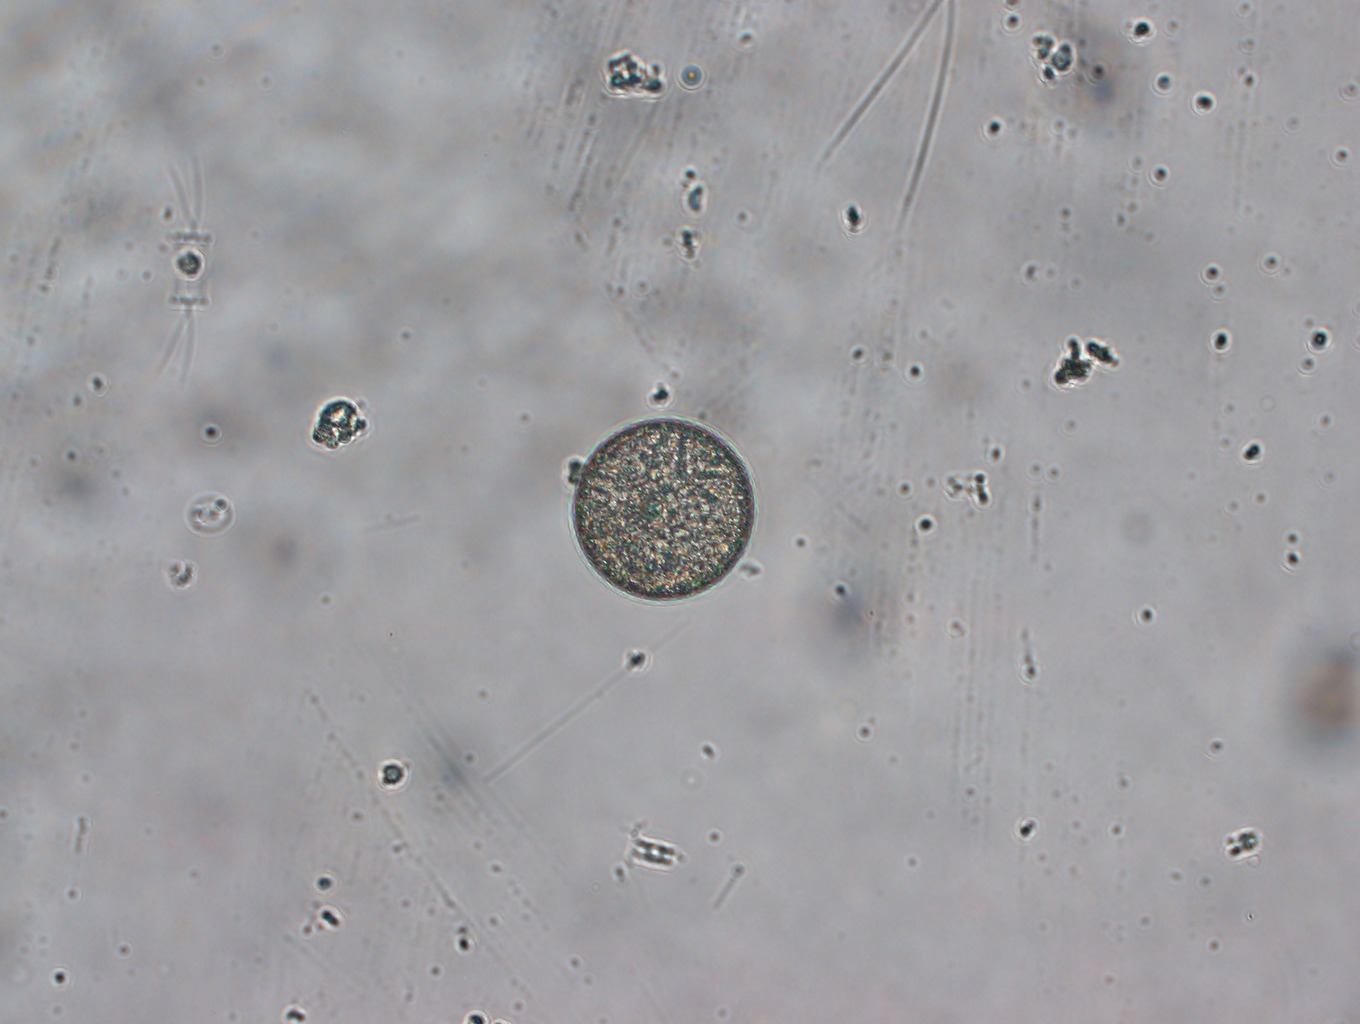chaetoceros: (155, 153, 211, 386)
coscinodiscus: (572, 415, 755, 601)
